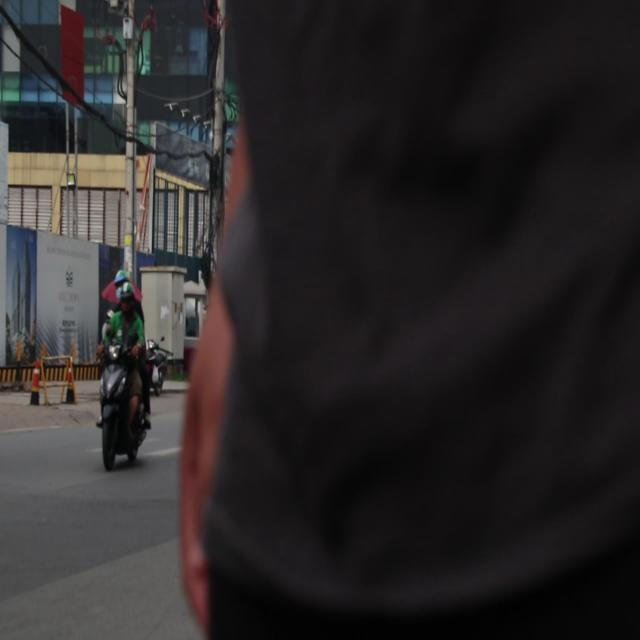motorbike: (97, 330, 153, 470), (147, 341, 172, 398)
